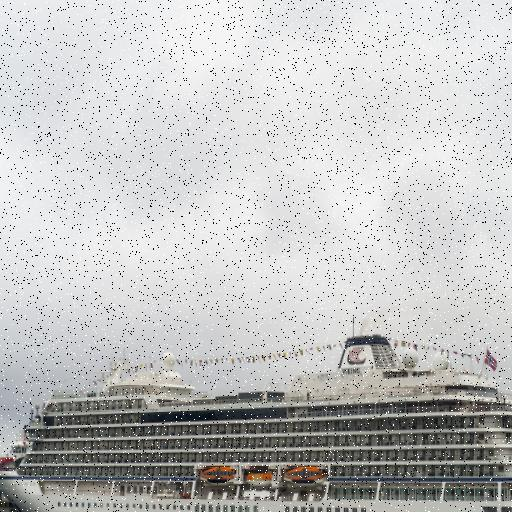cruises: (1, 332, 512, 512)
